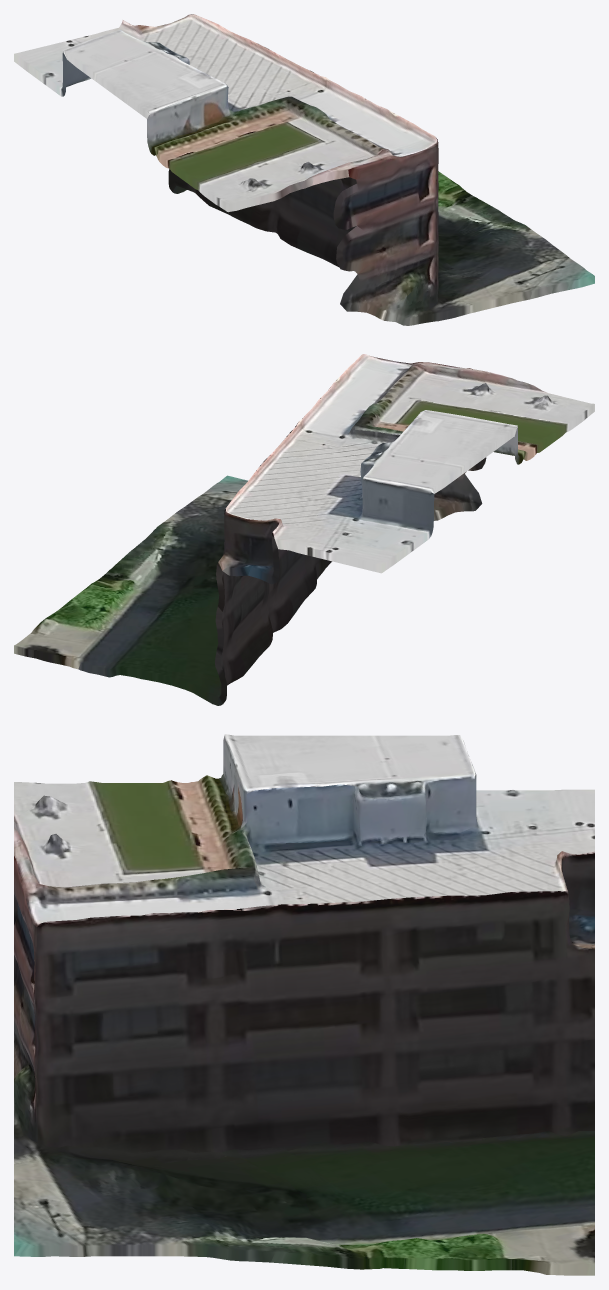
The model's file is z20-167769-405195-h0-yup-uvflip-v3-world.glb.
3 views of the same model, one above another, from view 1: azimuth 30°, elevation 25°; view 2: azimuth 150°, elevation 25°; view 3: azimuth 270°, elevation 25° (orthographic). The views are drawn at different scales.
Size of the model in its own units: 30.16 by 17.56 by 30.32.
Materials: 1 (1 with a texture image).
